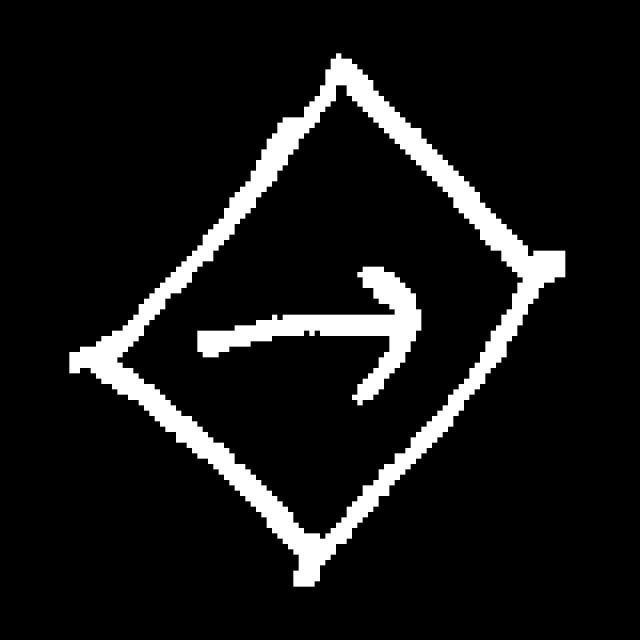dependant_current: (99, 56, 545, 583)
